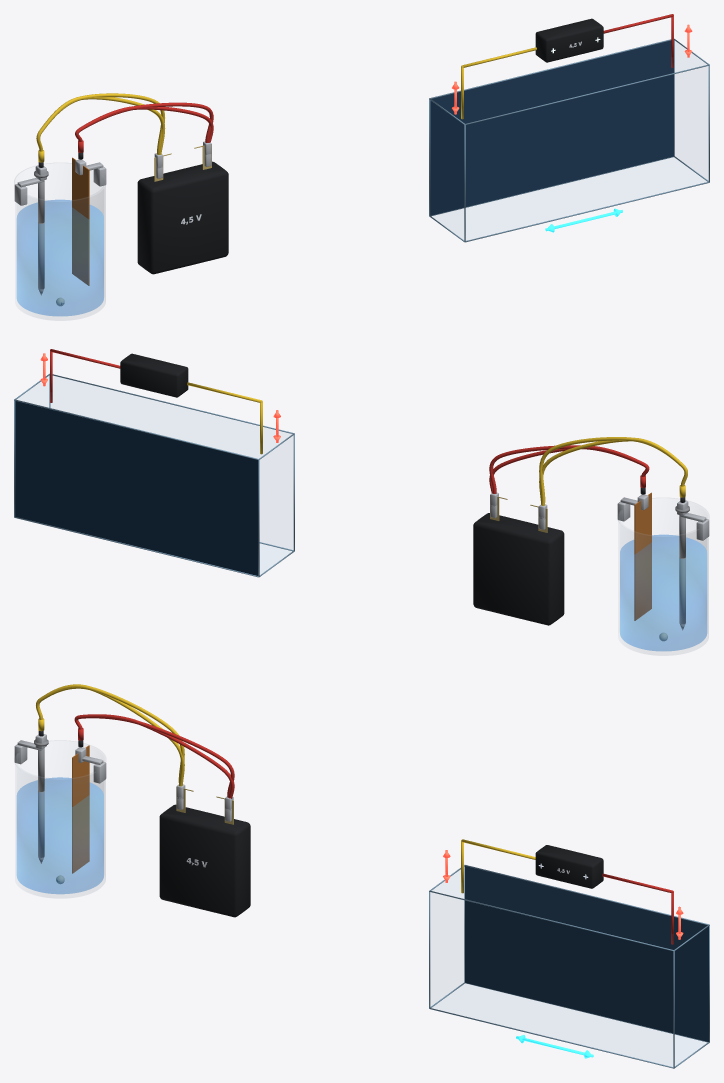
Rendered from verkupfern.glb.
3 views of the same model, one above another, from view 1: azimuth 30°, elevation 25°; view 2: azimuth 150°, elevation 25°; view 3: azimuth 330°, elevation 25° (orthographic).
Parts seen in each view (by area): view 1: T_Rueckwand, Becherglas, Loesung, Batterie, T_Behaelter, T_Batterie, Kupferblech_unten, Kupferblech_oben, Kabel_rot, Kabel_gelb, KabelC_gelb, KabelC_rot (+2 smaller); view 2: T_Rueckwand, Becherglas, Loesung, Batterie, T_Behaelter, T_Batterie, Kupferblech_unten, Kupferblech_oben, Kabel_gelb, KabelC_gelb, Kabel_rot, KabelC_rot (+2 smaller); view 3: T_Rueckwand, Becherglas, Loesung, Batterie, T_Behaelter, T_Batterie, Kupferblech_unten, Kupferblech_oben, Kabel_rot, Kabel_gelb, KabelC_gelb, KabelC_rot.
Part boxes in pixels (box(x1,y1,x2,y2)): T_Rueckwand: box(430, 40, 674, 215); Becherglas: box(14, 163, 105, 320); Loesung: box(17, 199, 103, 315); Batterie: box(137, 161, 228, 274); T_Behaelter: box(429, 38, 709, 242); T_Batterie: box(535, 18, 603, 62); Kupferblech_unten: box(72, 207, 89, 285); Kupferblech_oben: box(72, 157, 89, 219); Kabel_rot: box(75, 106, 213, 142); Kabel_gelb: box(36, 93, 164, 154); KabelC_gelb: box(38, 96, 165, 154); KabelC_rot: box(82, 102, 213, 142); T_Rueckwand: box(15, 401, 258, 575); Becherglas: box(618, 498, 709, 655); Loesung: box(620, 534, 706, 650); Batterie: box(473, 513, 564, 625); T_Behaelter: box(14, 373, 294, 577); T_Batterie: box(120, 353, 188, 397); Kupferblech_unten: box(634, 542, 651, 620); Kupferblech_oben: box(634, 492, 651, 554); Kabel_gelb: box(539, 437, 687, 505); KabelC_gelb: box(539, 437, 685, 504); Kabel_rot: box(489, 446, 649, 493); KabelC_rot: box(489, 445, 642, 493); T_Rueckwand: box(465, 866, 708, 1041); Becherglas: box(14, 741, 105, 897); Loesung: box(17, 777, 103, 893); Batterie: box(159, 804, 250, 917); T_Behaelter: box(429, 865, 709, 1068); T_Batterie: box(535, 845, 603, 888); Kupferblech_unten: box(72, 795, 89, 873); Kupferblech_oben: box(72, 745, 89, 806); Kabel_rot: box(74, 714, 234, 798); Kabel_gelb: box(36, 686, 184, 782); KabelC_gelb: box(38, 684, 184, 786); KabelC_rot: box(78, 717, 234, 797).
Size of the model in its own units: 53.02 by 17.46 by 6.32.
